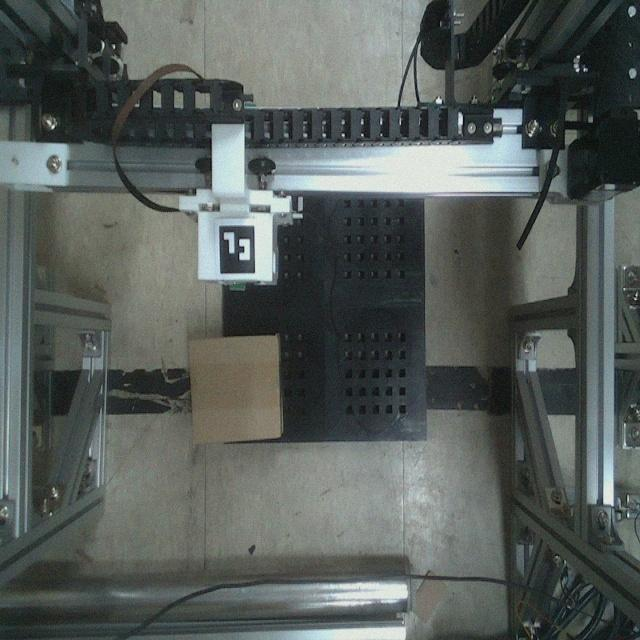box: (185, 332, 284, 447)
